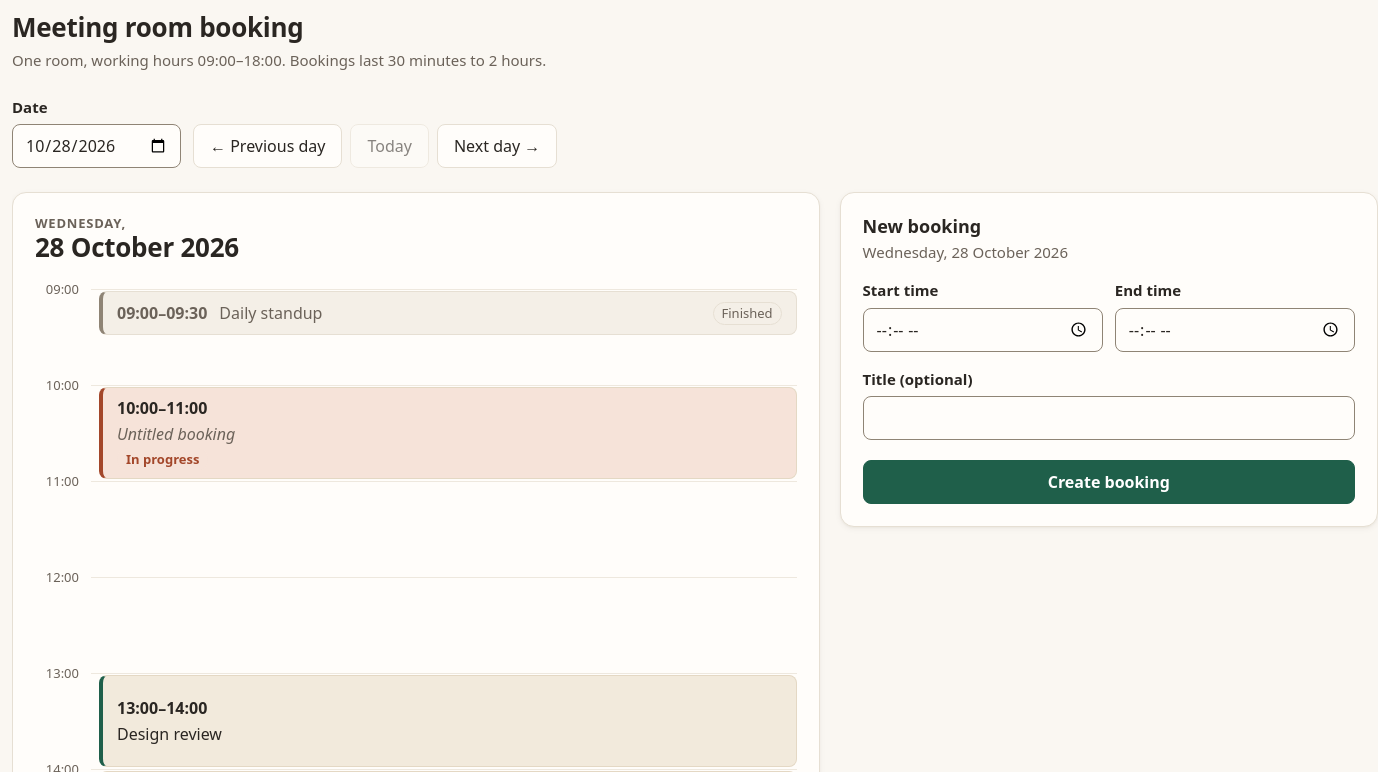
Test case: selecting a booking › opens it in the edit form on click and marks the block
Click the button named "Edit 13:00–14:00 Design review": coordinates (138, 708) [99, 675, 797, 767]
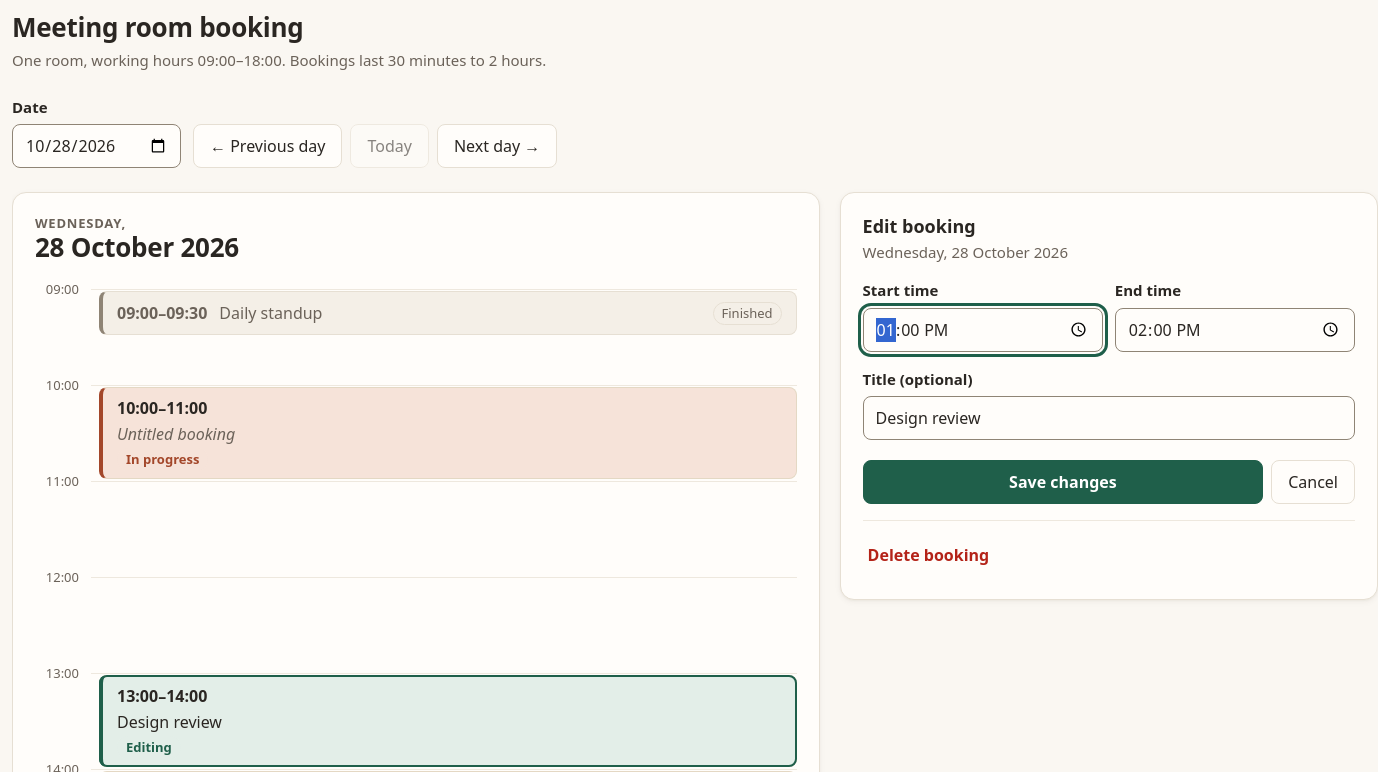
Check: the form "Edit booking" is shown, box [840, 192, 1377, 600]
Check: the time field labelled "Start time" holds "13:00", box [863, 308, 1103, 352]
Check: the text "Editing" is shown, box [117, 736, 181, 759]
